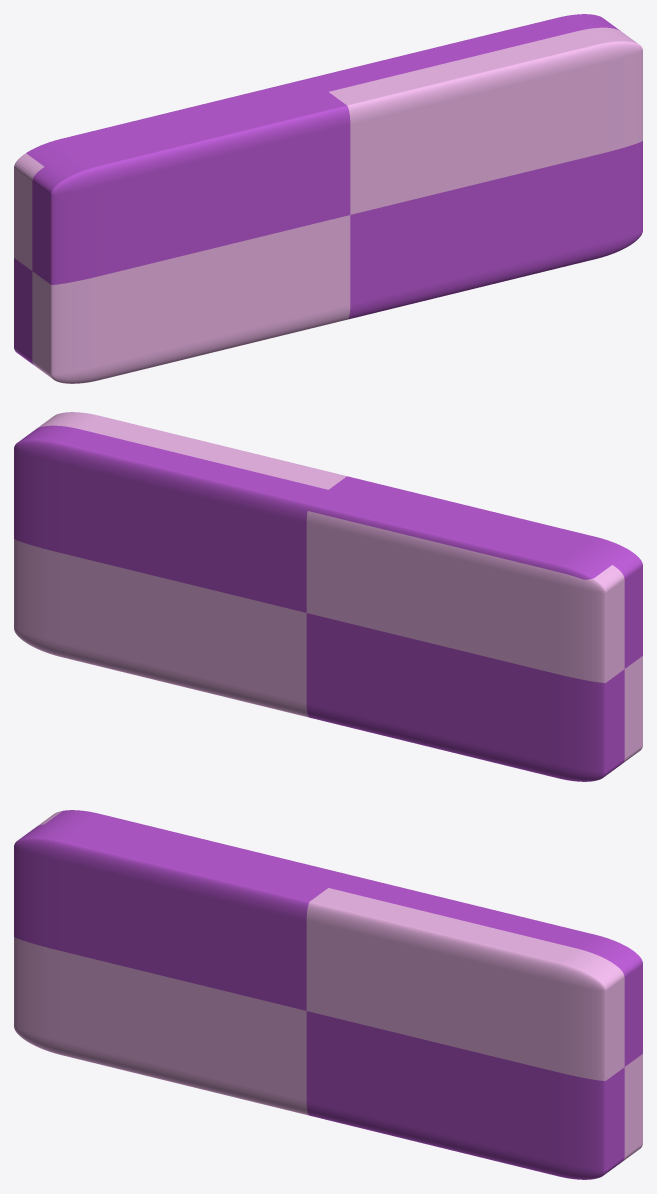
Rendered from Wall.fbx.
The picture shows the model from 3 angles, top to bottom: view 1: azimuth 30°, elevation 25°; view 2: azimuth 150°, elevation 25°; view 3: azimuth 330°, elevation 25°; orthographic projection.
Visible parts, largest first — view 1: Cube; view 2: Cube; view 3: Cube.
Part boxes in pixels (x1,y1,x2,y2): Cube: (14,14,642,383); Cube: (14,412,642,781); Cube: (14,810,642,1179).
Size of the model in its own units: 525 by 182 by 67.1.
